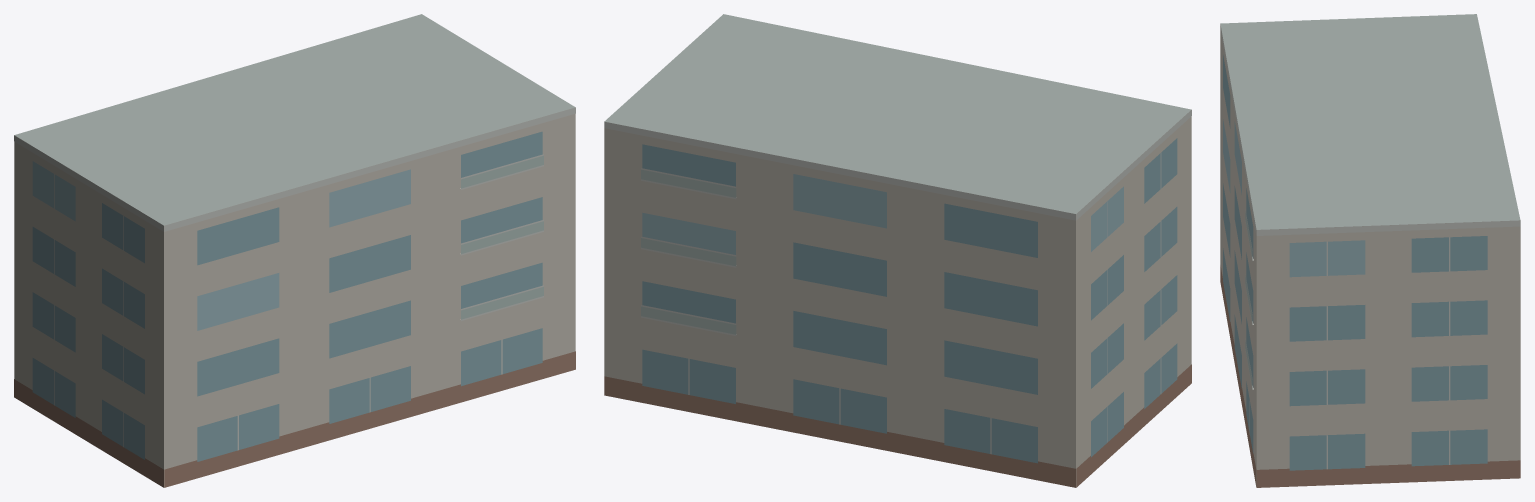
Rendered from survey-upis-33039754.glb.
3 views of the same model, side by side, from view 1: azimuth 30°, elevation 25°; view 2: azimuth 150°, elevation 25°; view 3: azimuth 270°, elevation 25° (orthographic). The views are drawn at different scales.
Parts seen in each view (by area): view 1: survey-upis-33039754.tmp; view 2: survey-upis-33039754.tmp; view 3: survey-upis-33039754.tmp.
Part boxes in pixels (box(x1,y1,x2,y2)): survey-upis-33039754.tmp: box(14, 14, 575, 487); survey-upis-33039754.tmp: box(604, 14, 1191, 487); survey-upis-33039754.tmp: box(1220, 14, 1520, 487).
Bounding box in the file's own units: 18.41 × 10.25 × 10.82.
